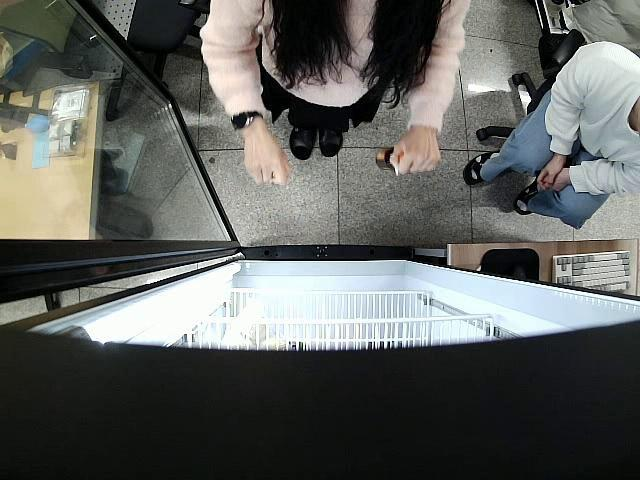17_vita500: (377, 147, 403, 172)
